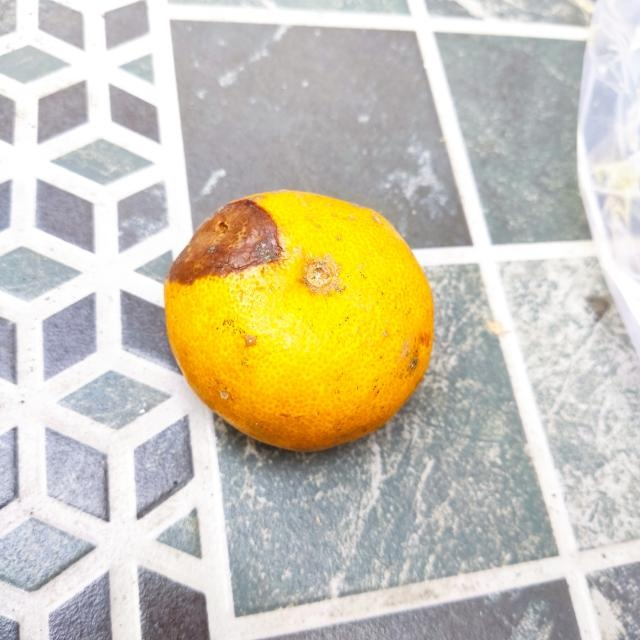agrume: (161, 186, 437, 454)
